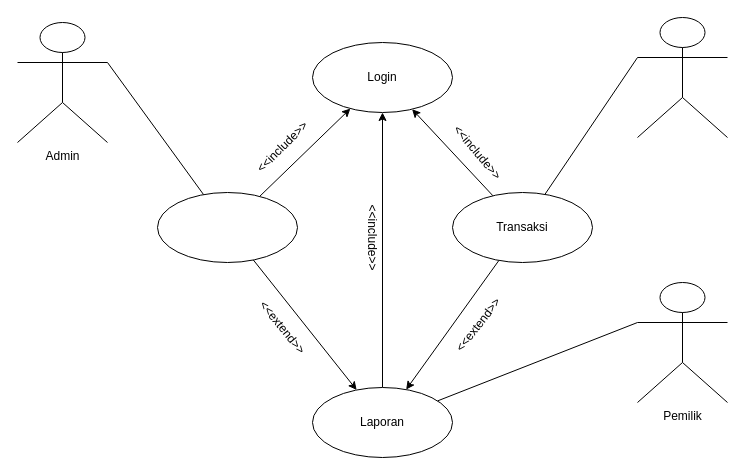
The diagram is 745 pixels wide and 475 high, and some of its shapes have lost their labels. The shapes that lost their labels are listed below. From the top down, each one's centre as x and y in pixels, then its label:
At [682,77]: "Kasir".
At [227,227]: "Menu Makanan".
